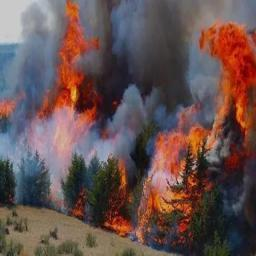Heavy smoke: (0, 0, 235, 206)
Large fire: (0, 0, 255, 255)
